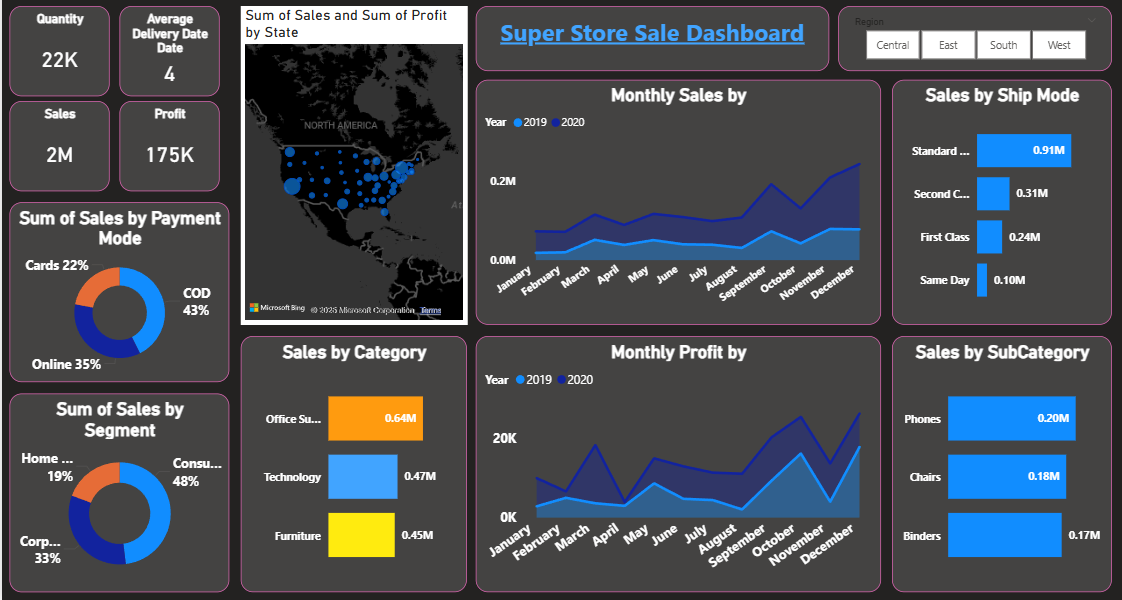

This screenshot's page, from the dashboard's own definition file:
{"tool":"powerbi","page":{"name":"Page 1","canvas":[1280,720],"ordinal":0},"visuals":[{"type":"clusteredBarChart","title":"Sales by Category","fields":{"Category":["SuperStore_Sales_Dataset (1)csv (2).Category"],"Y":["Sum(SuperStore_Sales_Dataset (1)csv (2).Sales)"]},"box":[272.9,417.1,258.6,292.9],"z":0},{"type":"clusteredBarChart","title":"Sales by SubCategory","fields":{"Category":["SuperStore_Sales_Dataset (1)csv (2).Sub-Category"],"Y":["Sum(SuperStore_Sales_Dataset (1)csv (2).Sales)"]},"box":[1017.1,417.1,251.4,292.9],"z":1000},{"type":"clusteredBarChart","title":"Sales by Ship Mode","fields":{"Category":["SuperStore_Sales_Dataset (1)csv (2).Ship Mode"],"Y":["Sum(SuperStore_Sales_Dataset (1)csv (2).Sales)"]},"box":[1017.1,124.3,251.4,280],"z":2000},{"type":"stackedAreaChart","title":"Monthly Sales by ","fields":{"Y":["Sum(SuperStore_Sales_Dataset (1)csv (2).Sales)"],"Category":["SuperStore_Sales_Dataset (1)csv (2).Order Date.Variation.Date Hierarchy.Month"],"Series":["SuperStore_Sales_Dataset (1)csv (2).Order Date.Variation.Date Hierarchy.Year"]},"box":[541.4,124.3,462.9,280],"z":3000},{"type":"stackedAreaChart","title":"Monthly Profit by ","fields":{"Category":["SuperStore_Sales_Dataset (1)csv (2).Order Date.Variation.Date Hierarchy.Month"],"Series":["SuperStore_Sales_Dataset (1)csv (2).Order Date.Variation.Date Hierarchy.Year"],"Y":["Sum(SuperStore_Sales_Dataset (1)csv (2).Profit)"]},"box":[541.4,417.1,462.9,292.9],"z":4000},{"type":"map","fields":{"Category":["SuperStore_Sales_Dataset (1)csv (2).State"],"Size":["Sum(SuperStore_Sales_Dataset (1)csv (2).Sales)"]},"box":[272.9,40,258.6,364.3],"z":5000},{"type":"donutChart","fields":{"Category":["SuperStore_Sales_Dataset (1)csv (2).Segment"],"Y":["Sum(SuperStore_Sales_Dataset (1)csv (2).Sales)"]},"box":[8.6,482.9,251.4,227.1],"z":6000},{"type":"donutChart","fields":{"Category":["SuperStore_Sales_Dataset (1)csv (2).Payment Mode","SuperStore_Sales_Dataset (1)csv (2).Segment"],"Y":["Sum(SuperStore_Sales_Dataset (1)csv (2).Sales)"]},"box":[8.6,264.3,251.4,205.7],"z":7000},{"type":"slicer","fields":{"Values":["SuperStore_Sales_Dataset (1)csv (2).Region"]},"box":[955.7,40,312.9,74.3],"z":8000},{"type":"textbox","box":[541.4,40,404.3,74.3],"z":9000},{"type":"card","title":"Sales","fields":{"Values":["Sum(SuperStore_Sales_Dataset (1)csv (2).Sales)"]},"box":[8.6,148.6,114.3,102.9],"z":10000},{"type":"card","title":"Quantity","fields":{"Values":["Sum(SuperStore_Sales_Dataset (1)csv (2).Quantity)"]},"box":[8.6,40,114.3,102.9],"z":11000},{"type":"card","title":"Profit","fields":{"Values":["Sum(SuperStore_Sales_Dataset (1)csv (2).Profit)"]},"box":[134.3,148.6,114.3,102.9],"z":12000},{"type":"card","title":"Average Delivery Date Date","fields":{"Values":["Avg(SuperStore_Sales_Dataset (1)csv (2).Average Deleivery)"]},"box":[134.3,40,114.3,102.9],"z":13000}]}

Visuals, with their boxes on the page's 1280x720 design canvas (x1, y1, x2, y2). These are canvas units, not pixel positions in the 1122x600 screenshot, which may show the page scaled, cropped or inside an application window:
"Sales by Category" clusteredBarChart: crop(273, 417, 532, 710)
"Sales by SubCategory" clusteredBarChart: crop(1017, 417, 1268, 710)
"Sales by Ship Mode" clusteredBarChart: crop(1017, 124, 1268, 404)
"Monthly Sales by " stackedAreaChart: crop(541, 124, 1004, 404)
"Monthly Profit by " stackedAreaChart: crop(541, 417, 1004, 710)
map - SuperStore_Sales_Dataset (1)csv (2).State x Sum(SuperStore_Sales_Dataset (1)csv (2).Sales): crop(273, 40, 532, 404)
donutChart - SuperStore_Sales_Dataset (1)csv (2).Segment x Sum(SuperStore_Sales_Dataset (1)csv (2).Sales): crop(9, 483, 260, 710)
donutChart - SuperStore_Sales_Dataset (1)csv (2).Payment Mode x SuperStore_Sales_Dataset (1)csv (2).Segment: crop(9, 264, 260, 470)
slicer - SuperStore_Sales_Dataset (1)csv (2).Region: crop(956, 40, 1269, 114)
textbox: crop(541, 40, 946, 114)
"Sales" card: crop(9, 149, 123, 252)
"Quantity" card: crop(9, 40, 123, 143)
"Profit" card: crop(134, 149, 249, 252)
"Average Delivery Date Date" card: crop(134, 40, 249, 143)
